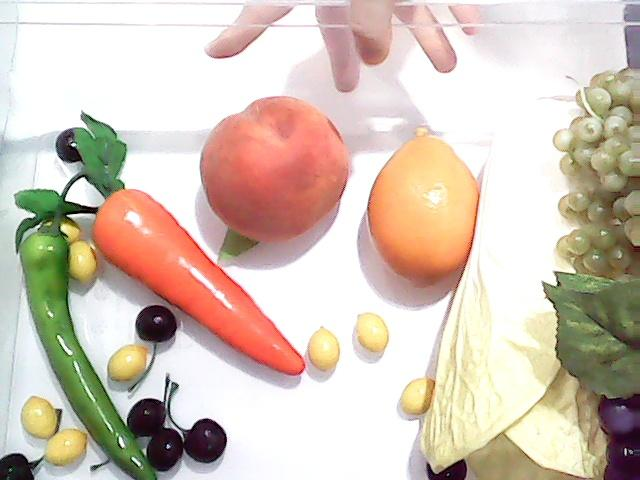carrot: (13, 106, 303, 374)
grape: (536, 270, 640, 480), (559, 75, 640, 279)
lemon: (363, 124, 491, 286)
napa cabbage: (422, 95, 640, 480)
peach: (198, 98, 352, 244)
pepper: (8, 180, 160, 480)
